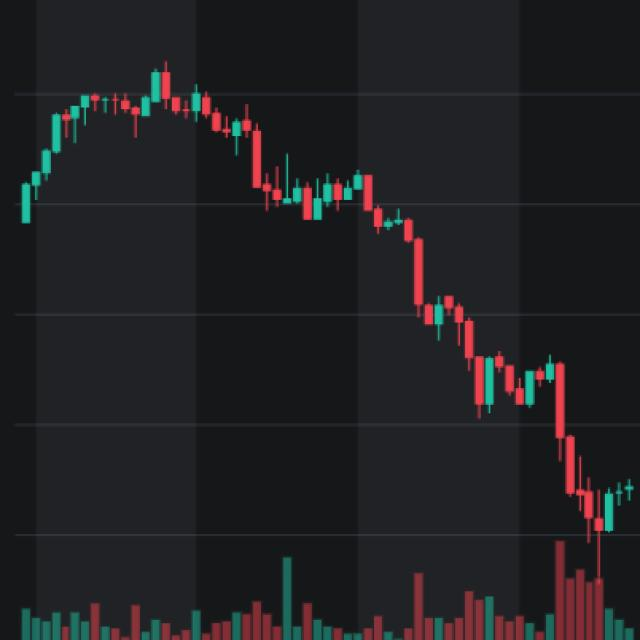Support-breakout: (32, 52, 596, 542)
